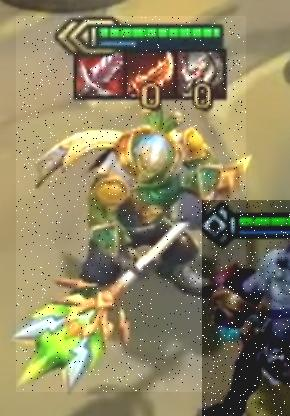2_sylas: (202, 200, 290, 416)
3_jax: (16, 16, 246, 392)
